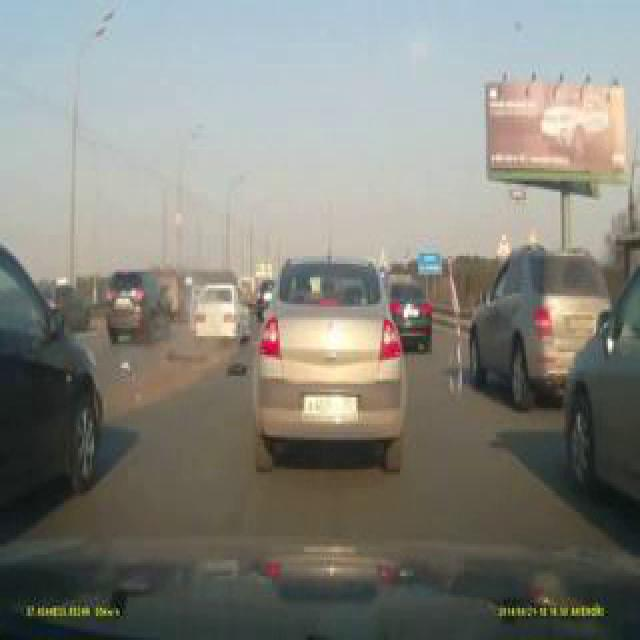explosion: (234, 0, 569, 619)
